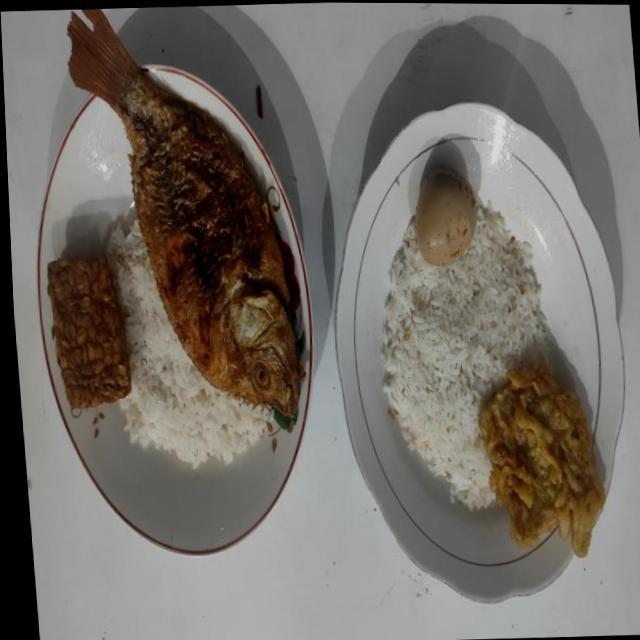ikan_mujair: (68, 8, 299, 418)
nasi_putih: (381, 202, 545, 509), (106, 220, 270, 468)
tempe_goreng: (48, 256, 130, 411)
